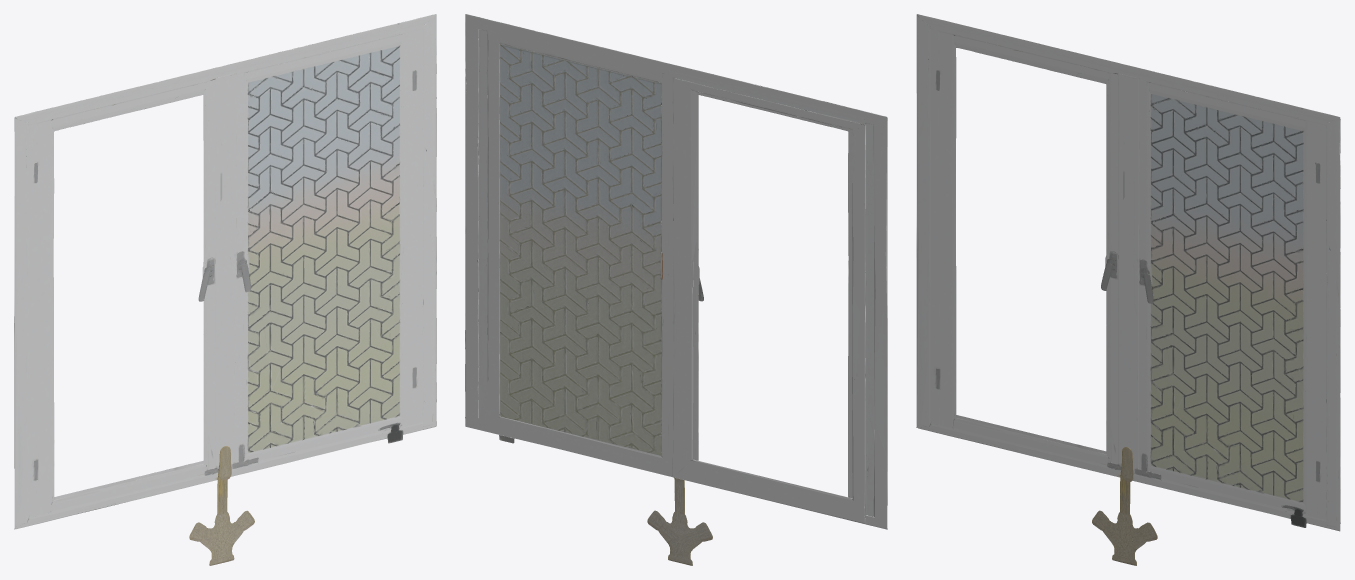
The model's file is GLS-SGB-SUNBAN-SAPPHIRE5.glb.
3 views of the same model, side by side, from view 1: azimuth 30°, elevation 25°; view 2: azimuth 150°, elevation 25°; view 3: azimuth 330°, elevation 25° (orthographic).
Visible parts, largest first — view 1: mesh_node; view 2: mesh_node; view 3: mesh_node.
Boxes of the visible parts, box(x1,y1,x2,y2) form: mesh_node: box(14, 14, 436, 565); mesh_node: box(465, 14, 887, 565); mesh_node: box(916, 14, 1340, 565).
Size of the model in its own units: 1.6 by 1.8 by 0.005.
Materials: 1 (1 with a texture image).
